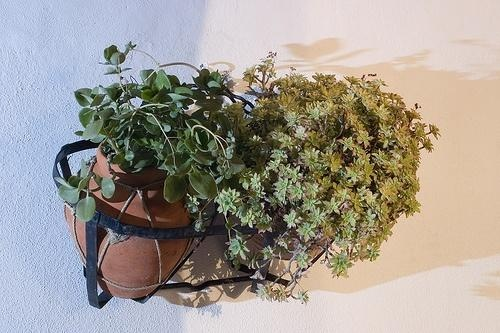pottedplant: (224, 53, 443, 305), (62, 44, 244, 302)
